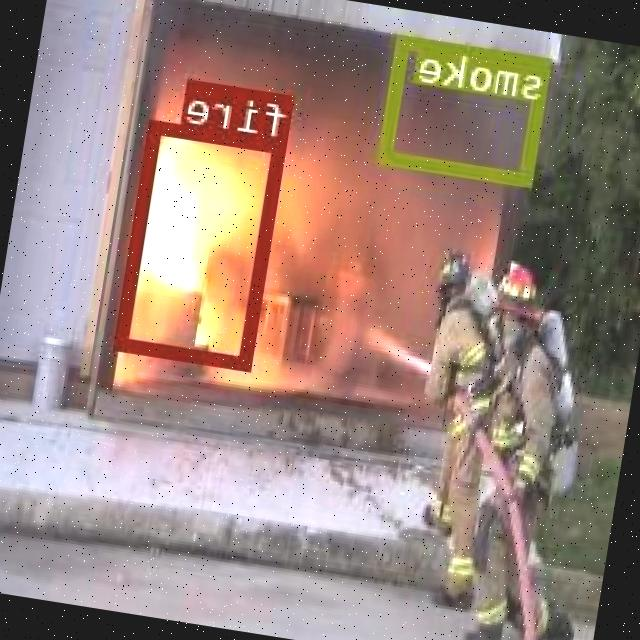fire: (119, 118, 290, 368)
smoke: (381, 34, 554, 184)
